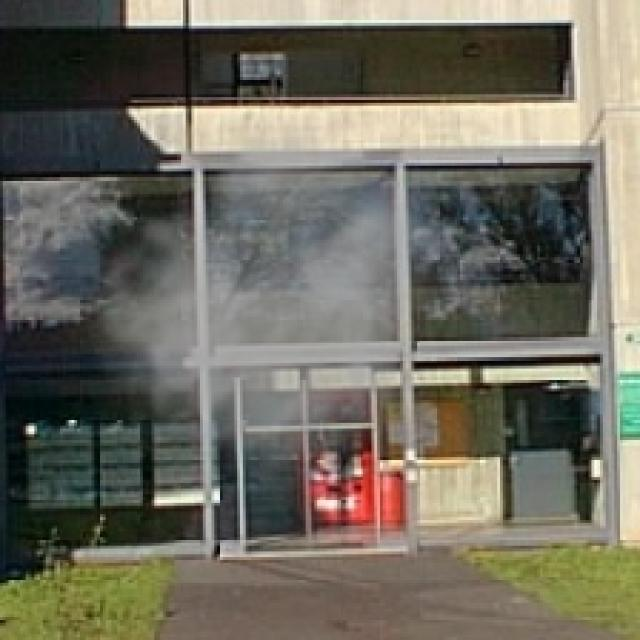smoke: (57, 109, 440, 512)
